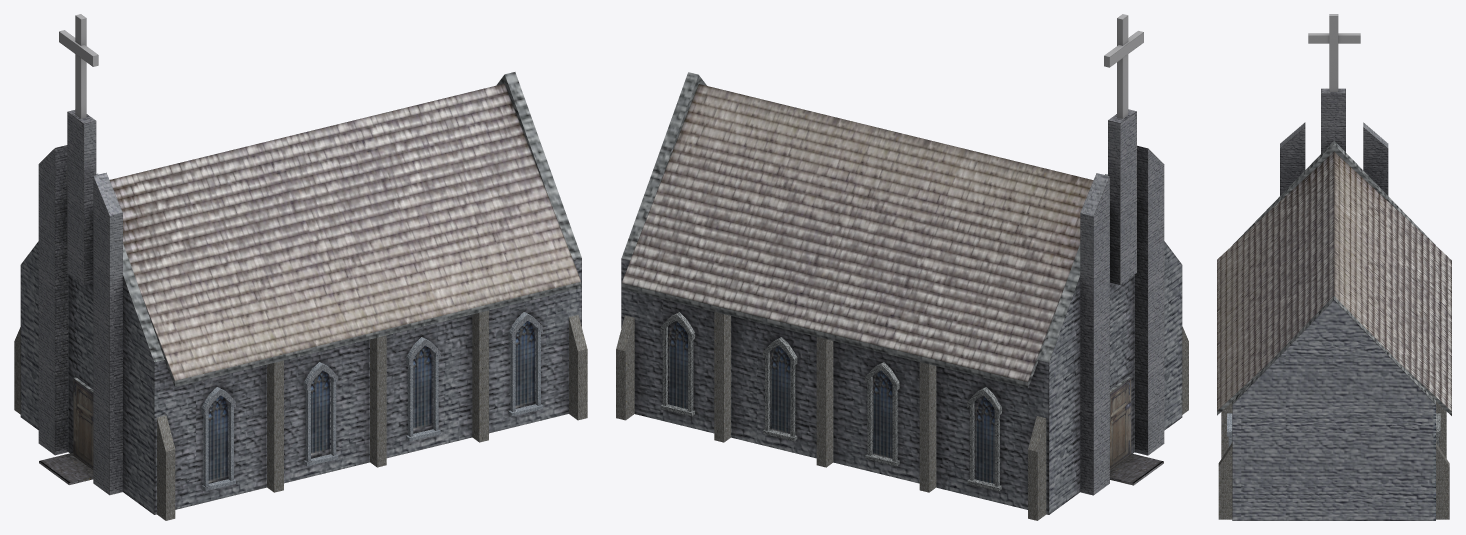
File: church.FBX
The picture shows the model from 3 angles, left to right: view 1: azimuth 30°, elevation 25°; view 2: azimuth 150°, elevation 25°; view 3: azimuth 270°, elevation 25°; orthographic projection. The views are drawn at different scales.
Visible parts, largest first — view 1: Box018; view 2: Box018; view 3: Box018.
Part boxes in pixels (left/top/right/bottom): Box018: left=14, top=14, right=587, bottom=520; Box018: left=616, top=14, right=1188, bottom=520; Box018: left=1217, top=14, right=1451, bottom=520.
Size of the model in its own units: 151 by 87.39 by 141.
